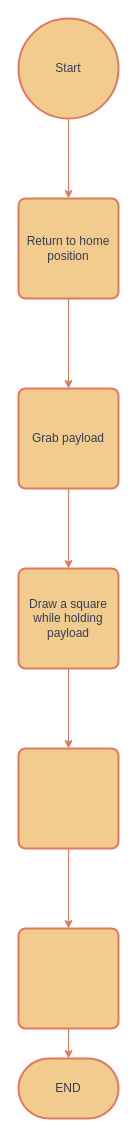
The diagram is 136 pixels wide and 1136 high, and some of its shapes have lost their labels. Each missing label, with the centre of its shape:
Place back payload: (68,798)
Return to home: (68,978)
